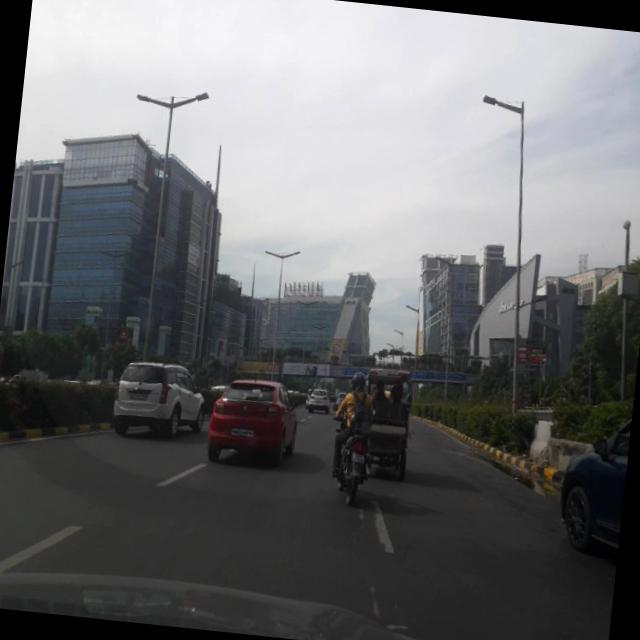pothole: (364, 572, 384, 622), (352, 498, 371, 548)
